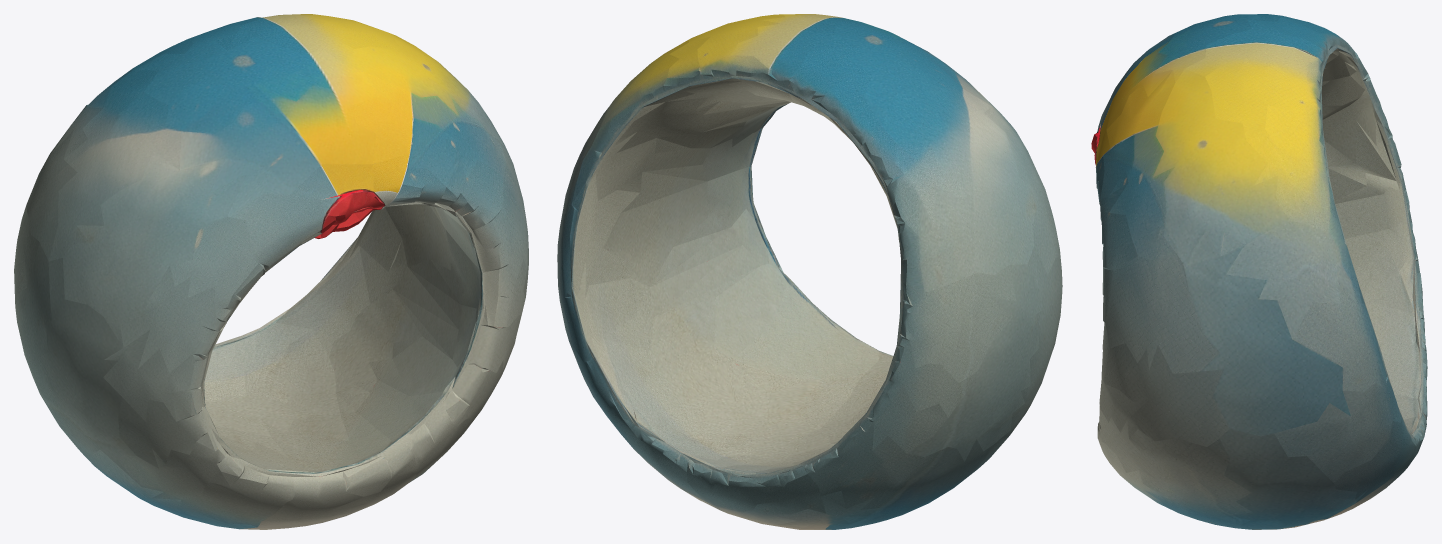
File: pallone.glb
3 views of the same model, side by side, from view 1: azimuth 30°, elevation 25°; view 2: azimuth 150°, elevation 25°; view 3: azimuth 270°, elevation 25° (orthographic). The views are drawn at different scales.
Size of the model in its own units: 1.9 by 1.9 by 1.24.
1 material, 1 textured.
